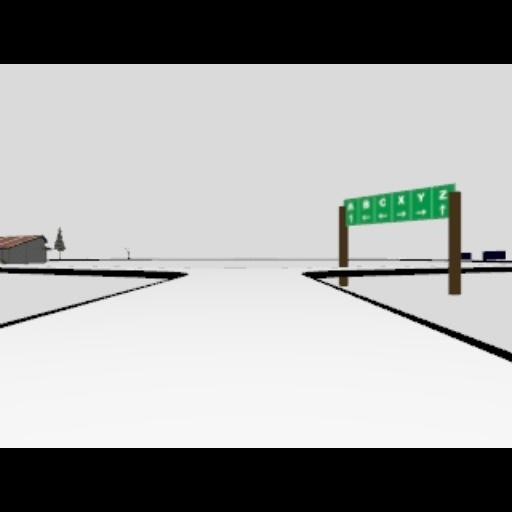A: (347, 201, 355, 211)
B: (362, 200, 370, 210)
C: (378, 197, 386, 207)
Left: (361, 214, 371, 222), (378, 212, 388, 220)
Right: (396, 210, 408, 218), (414, 210, 428, 216)
Straight: (439, 204, 447, 216), (349, 214, 355, 224)
X: (397, 195, 405, 205)
Y: (417, 192, 425, 202)
Z: (438, 190, 448, 200)
